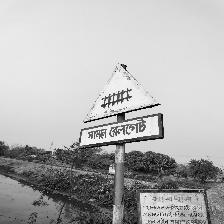Rail-crossing: (80, 63, 163, 149)
